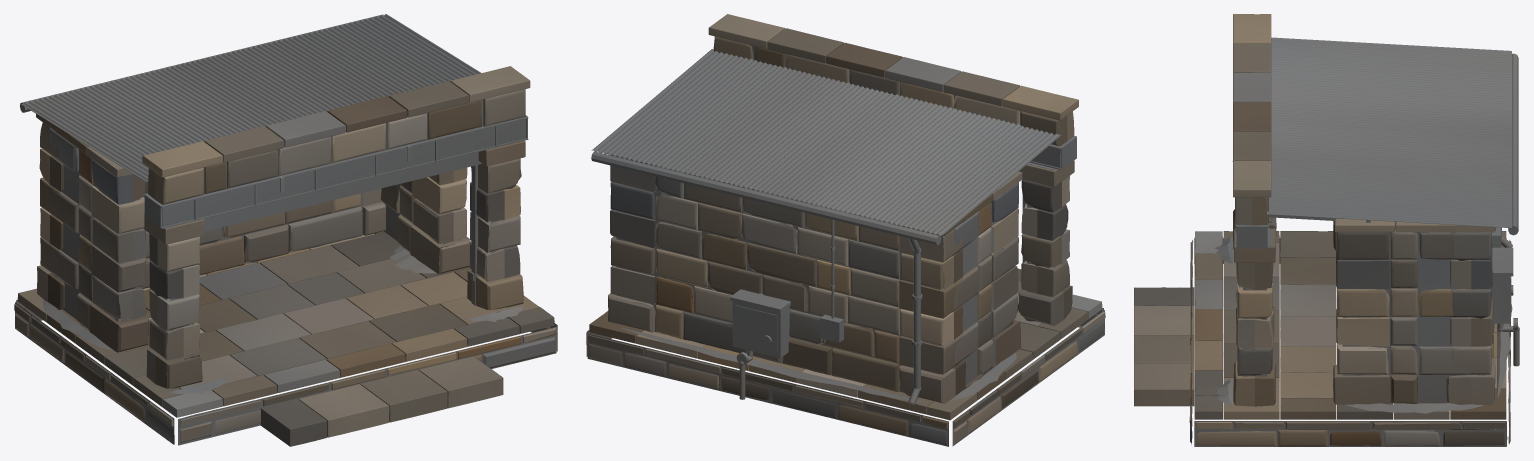
The model's file is BasicGeneral_LOD0.glb.
The picture shows the model from 3 angles, left to right: view 1: azimuth 30°, elevation 25°; view 2: azimuth 150°, elevation 25°; view 3: azimuth 270°, elevation 25°; orthographic projection. The views are drawn at different scales.
Parts seen in each view (by area): view 1: BasicGeneral_Porch_LOD0, BasicGeneral_Masonry_LOD0, BasicGeneral_Roof_LOD0, BasicGeneral_Metal_LOD0, BasicGeneral_Trim_LOD0, BasicGeneral_Sand_LOD0; view 2: BasicGeneral_Masonry_LOD0, BasicGeneral_Roof_LOD0, BasicGeneral_Porch_LOD0, BasicGeneral_Metal_LOD0, BasicGeneral_Trim_LOD0, BasicGeneral_Sand_LOD0; view 3: BasicGeneral_Roof_LOD0, BasicGeneral_Porch_LOD0, BasicGeneral_Masonry_LOD0, BasicGeneral_Trim_LOD0, BasicGeneral_Metal_LOD0, BasicGeneral_Sand_LOD0.
Boxes of the visible parts, <box> form: BasicGeneral_Porch_LOD0: <box>14,231,557,446</box>; BasicGeneral_Masonry_LOD0: <box>37,89,525,388</box>; BasicGeneral_Roof_LOD0: <box>20,14,481,181</box>; BasicGeneral_Metal_LOD0: <box>20,14,528,305</box>; BasicGeneral_Trim_LOD0: <box>36,66,530,244</box>; BasicGeneral_Sand_LOD0: <box>43,246,523,394</box>; BasicGeneral_Masonry_LOD0: <box>608,36,1074,403</box>; BasicGeneral_Roof_LOD0: <box>591,49,1061,236</box>; BasicGeneral_Porch_LOD0: <box>586,268,1105,446</box>; BasicGeneral_Metal_LOD0: <box>591,136,1076,404</box>; BasicGeneral_Trim_LOD0: <box>607,14,1078,235</box>; BasicGeneral_Sand_LOD0: <box>621,310,1072,402</box>; BasicGeneral_Roof_LOD0: <box>1267,37,1511,228</box>; BasicGeneral_Porch_LOD0: <box>1134,231,1511,446</box>; BasicGeneral_Masonry_LOD0: <box>1233,197,1495,406</box>; BasicGeneral_Trim_LOD0: <box>1232,14,1494,262</box>; BasicGeneral_Metal_LOD0: <box>1235,53,1519,366</box>; BasicGeneral_Sand_LOD0: <box>1214,237,1512,413</box>.
Bounding box in the file's own units: 5.78 × 3.71 × 5.11.
